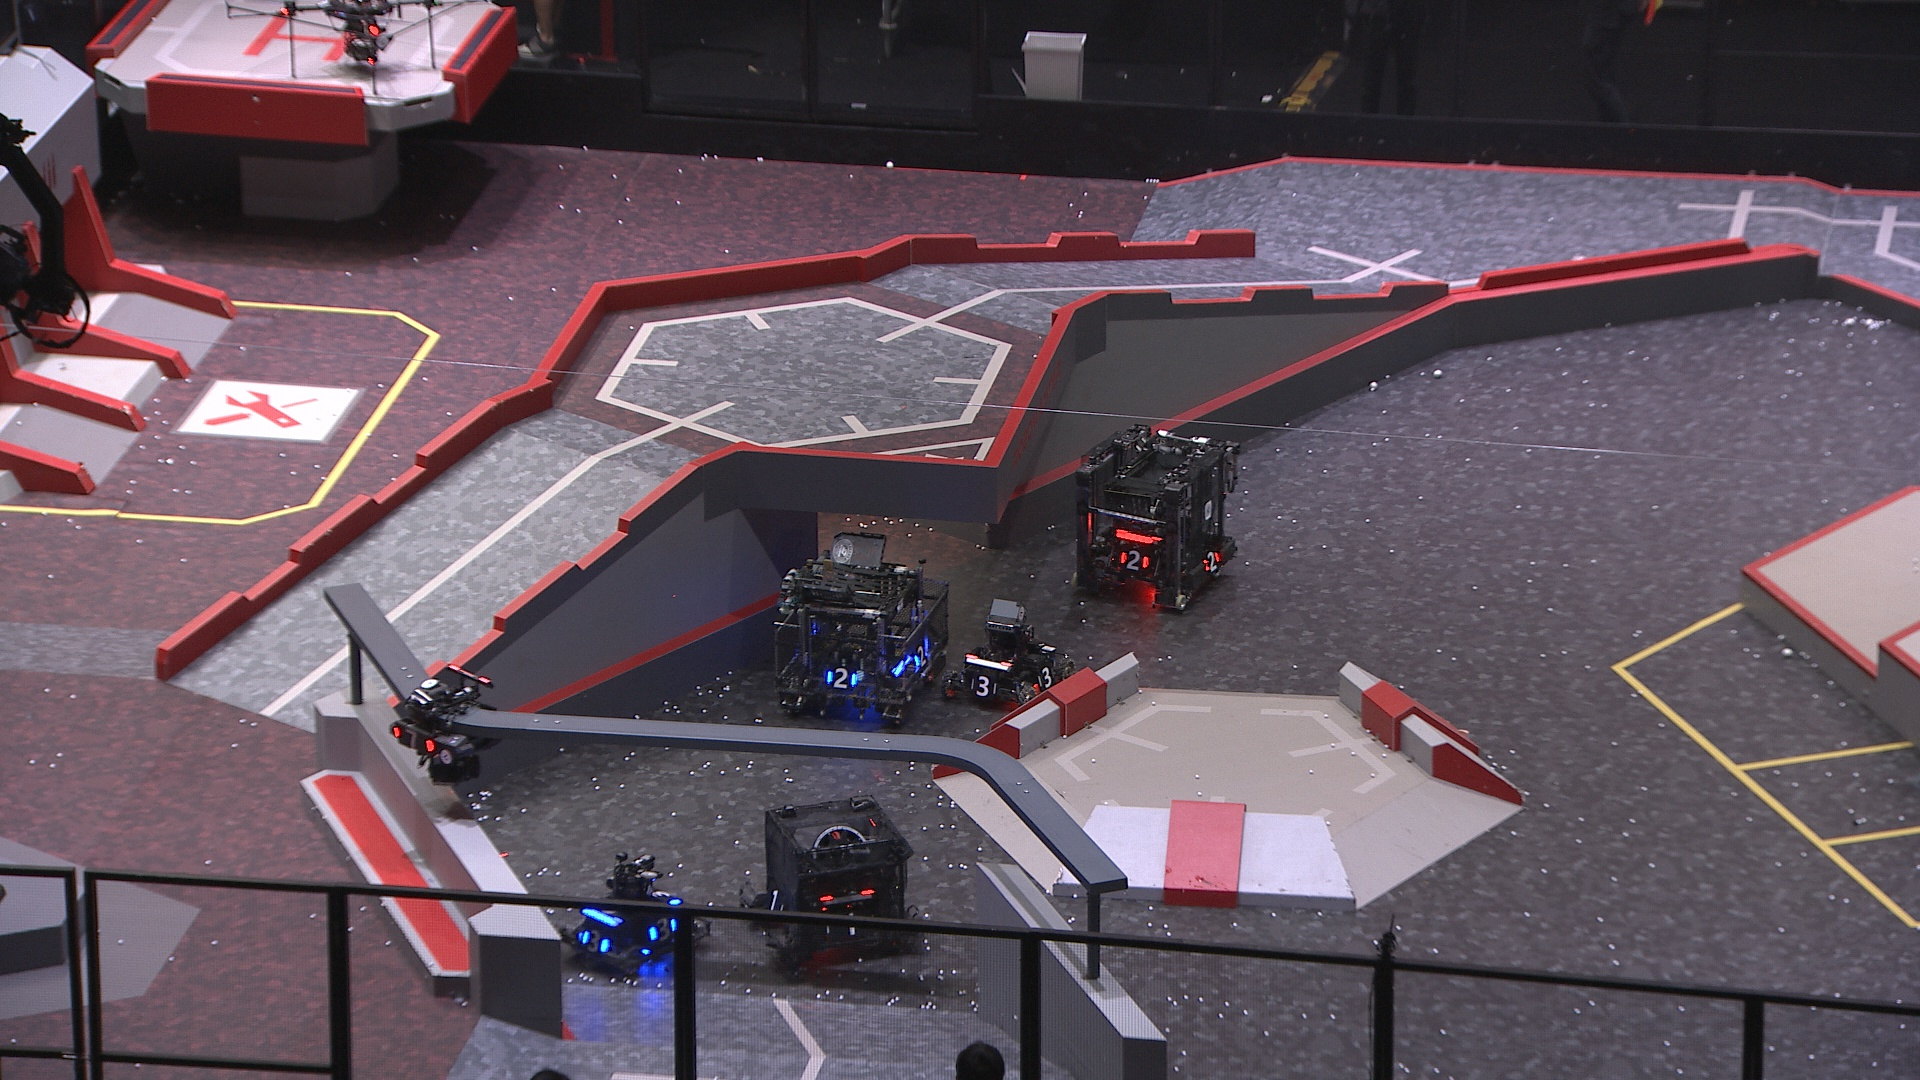armor: (386, 723, 436, 756), (823, 907, 869, 938), (644, 913, 680, 948), (579, 926, 613, 956), (825, 665, 858, 694), (646, 885, 684, 909), (1120, 549, 1153, 574), (909, 641, 936, 670), (965, 675, 1001, 698), (1033, 665, 1055, 692), (764, 887, 785, 916), (1204, 550, 1221, 572)
car: (769, 527, 951, 727), (1069, 422, 1244, 615), (756, 789, 932, 972), (564, 847, 698, 977), (940, 593, 1073, 712)
watcher: (381, 662, 495, 783)
